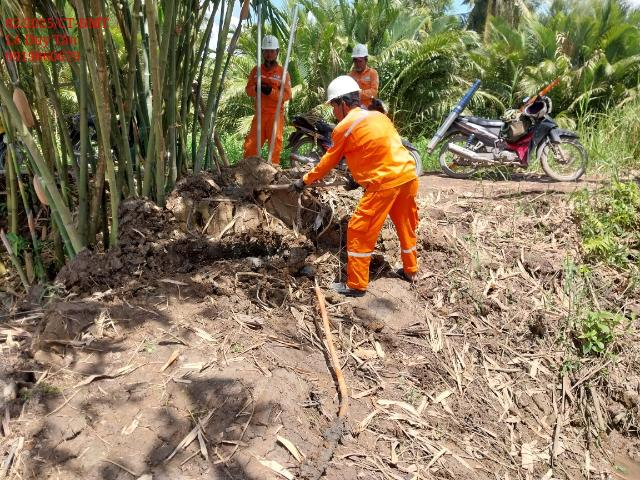gloves: (242, 76, 281, 99), (343, 170, 375, 197), (285, 174, 320, 197)
helmet: (317, 69, 368, 111), (342, 37, 387, 63), (253, 32, 290, 57)
shoes: (319, 272, 374, 303), (392, 256, 435, 292)
